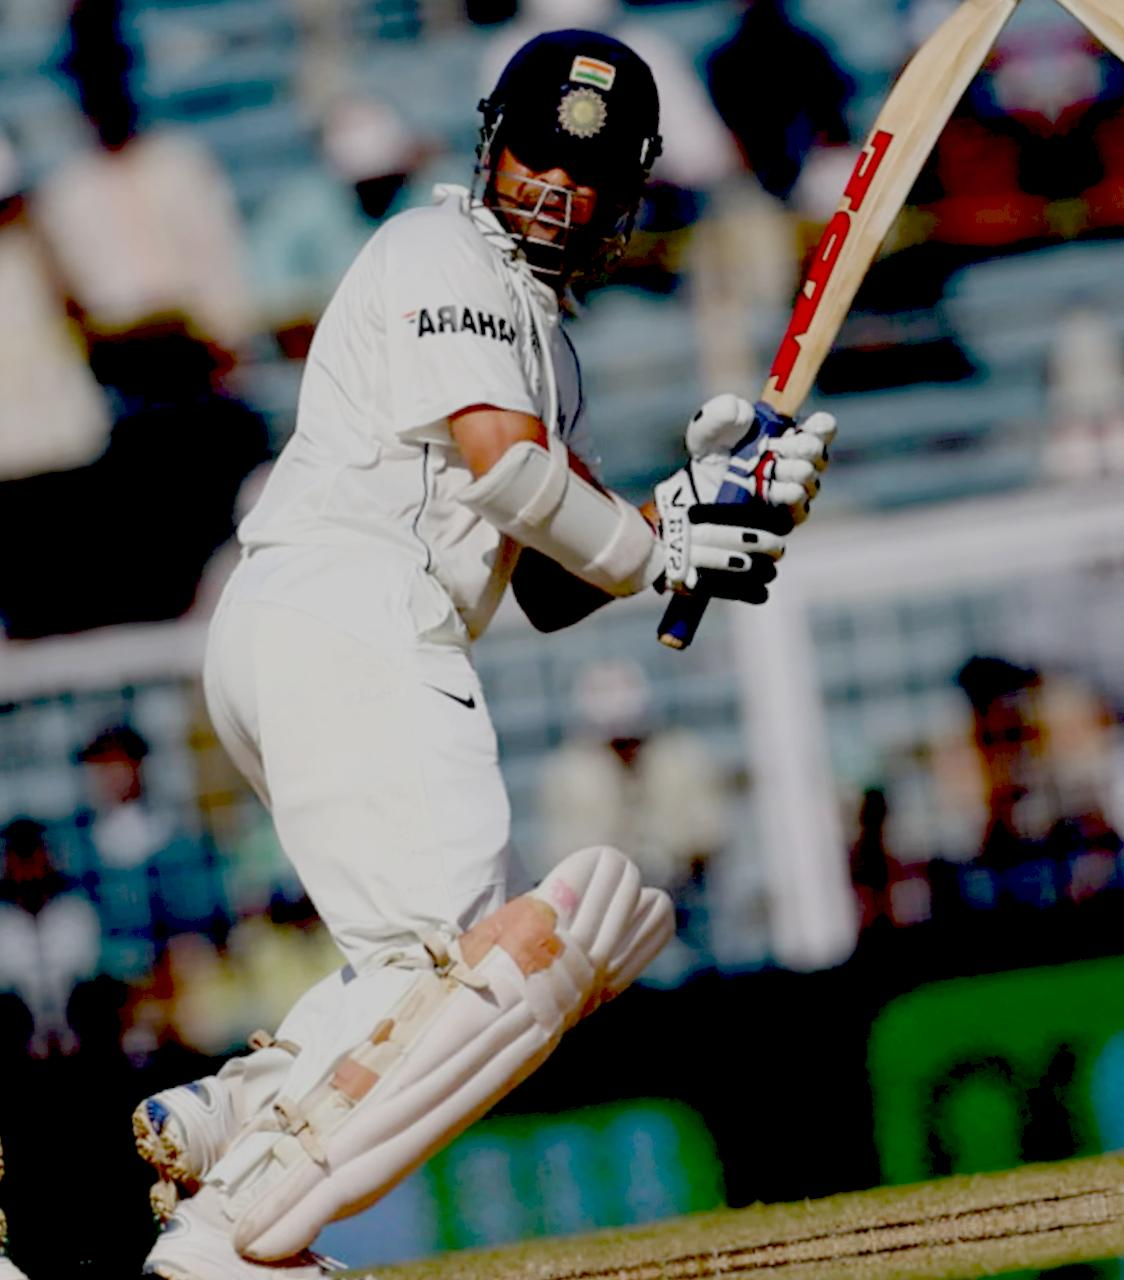batsman: (50, 3, 1043, 1280)
